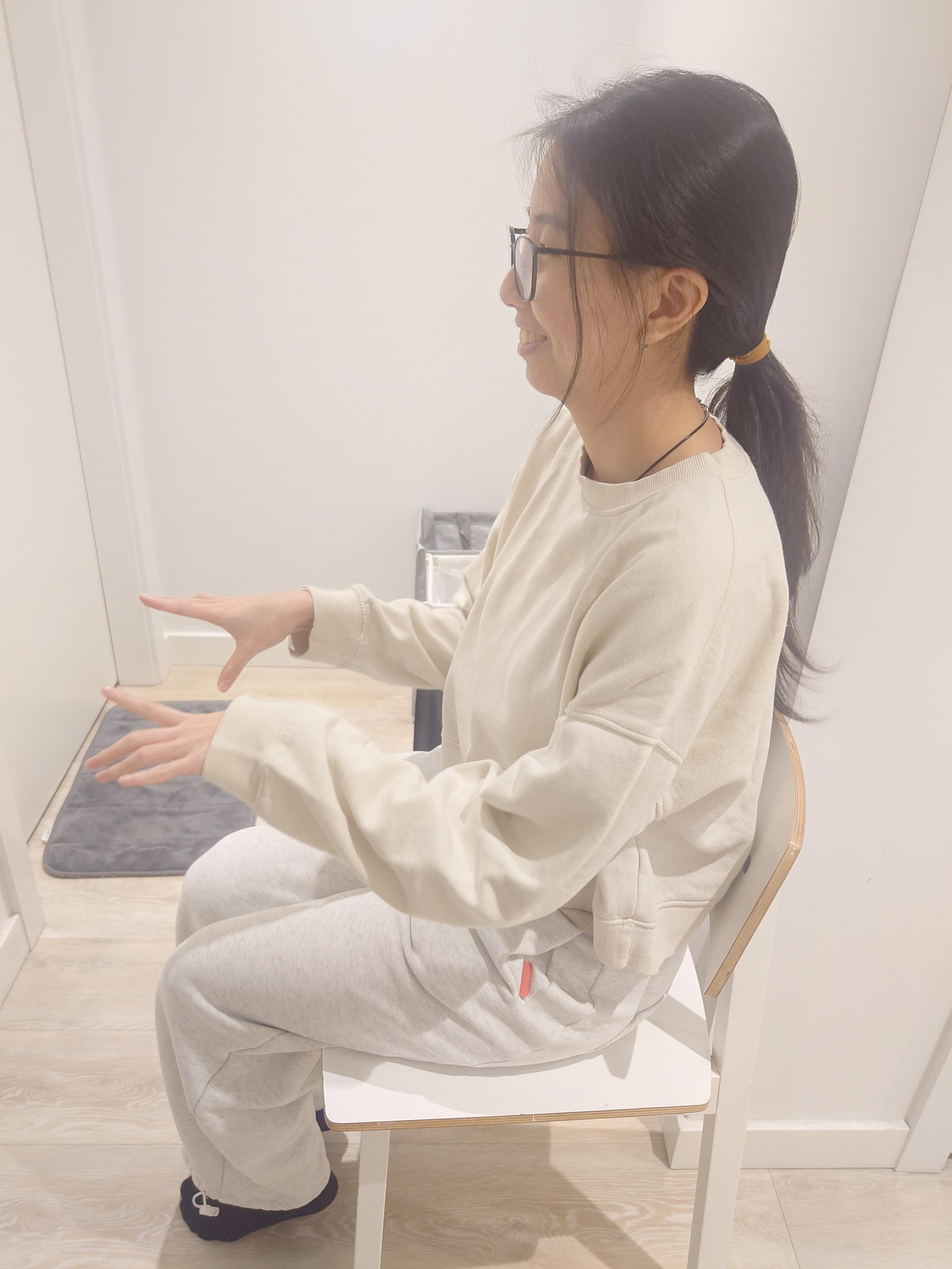GoodPosture: (83, 67, 810, 1245)
